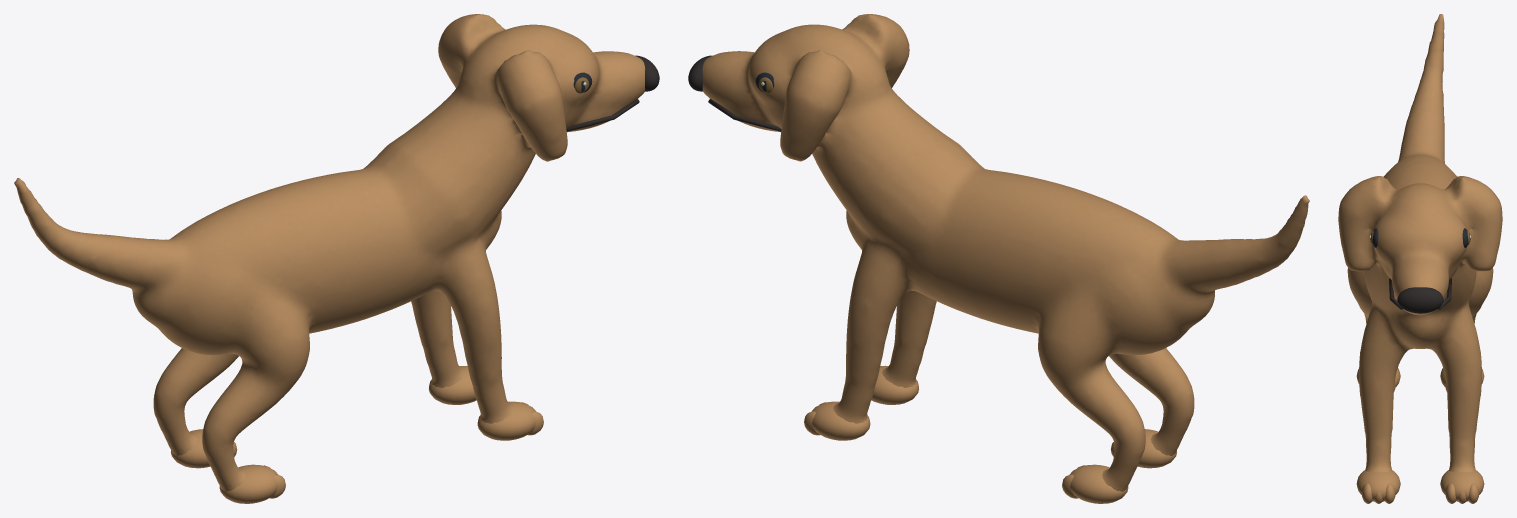
Rendered from pip.glb.
3 renders of one model, left to right at view 1: azimuth 30°, elevation 25°; view 2: azimuth 150°, elevation 25°; view 3: azimuth 270°, elevation 25°, orthographic. The views are drawn at different scales.
Parts seen in each view (by area): view 1: Continuous anatomical skin, Rounded paw.001, Rounded paw, Rounded paw.002, Rounded paw.003; view 2: Continuous anatomical skin, Rounded paw.003, Rounded paw.002, Rounded paw, Rounded paw.001; view 3: Continuous anatomical skin, Nose, Rounded paw, Rounded paw.002.
Boxes of the visible parts, <box> form: Continuous anatomical skin: <box>14,14,645,491</box>; Rounded paw.001: <box>219,464,277,503</box>; Rounded paw: <box>477,401,535,440</box>; Rounded paw.002: <box>429,366,476,404</box>; Rounded paw.003: <box>171,429,210,468</box>; Continuous anatomical skin: <box>702,14,1309,491</box>; Rounded paw.003: <box>1070,464,1128,503</box>; Rounded paw.002: <box>812,401,870,440</box>; Rounded paw: <box>871,365,918,404</box>; Rounded paw.001: <box>1137,429,1176,468</box>; Continuous anatomical skin: <box>1338,14,1502,472</box>; Nose: <box>1397,287,1443,313</box>; Rounded paw: <box>1356,470,1400,501</box>; Rounded paw.002: <box>1440,470,1484,501</box>.
Bounding box in the file's own units: 1.17 × 0.68 × 0.3085.
5 materials, 5 textured.
